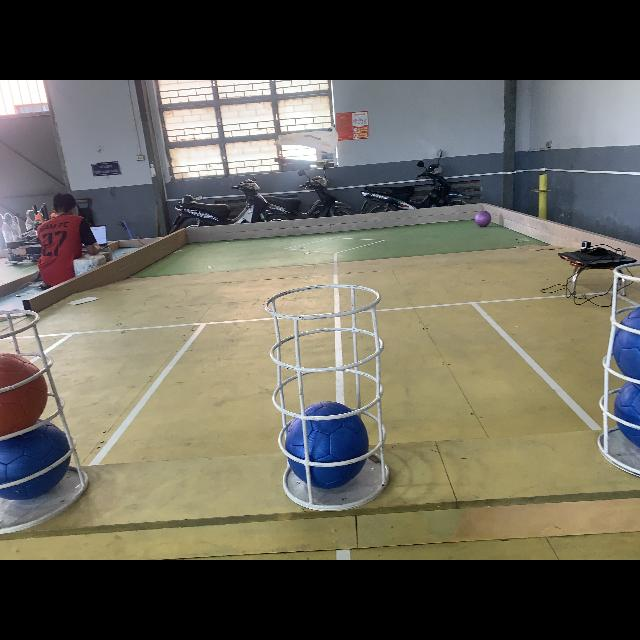B: (286, 399, 368, 488), (2, 419, 72, 499), (612, 306, 640, 386), (614, 380, 640, 450)
R: (0, 352, 50, 440)
